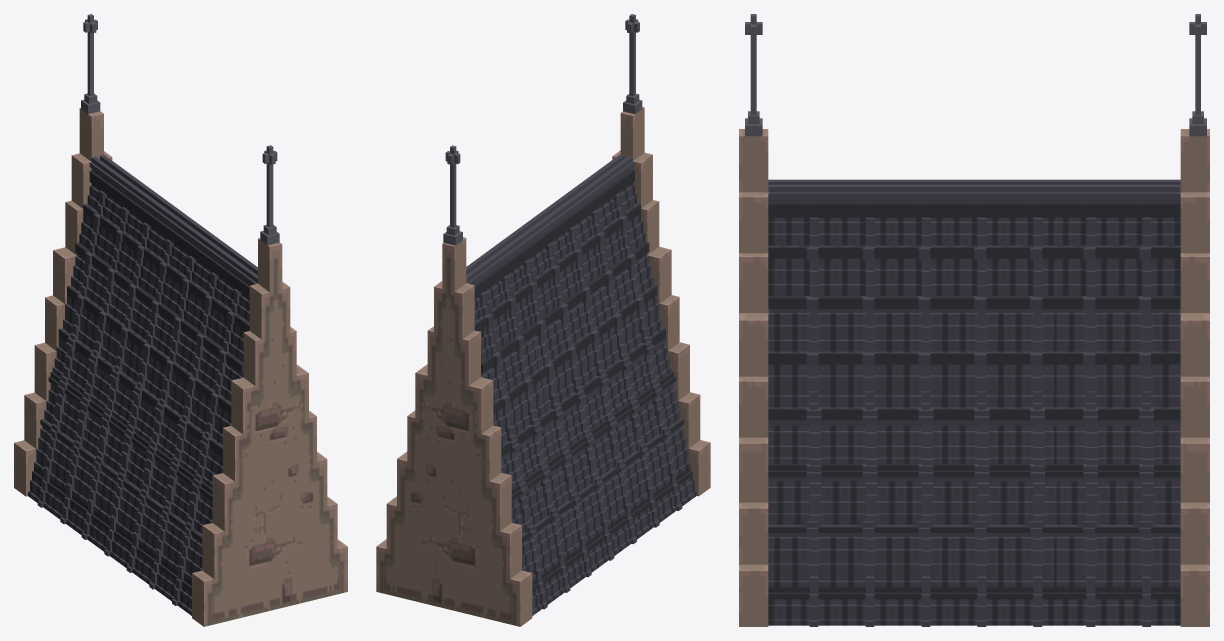
File: Rooftop-1.fbx
The picture shows the model from 3 angles, left to right: view 1: azimuth 30°, elevation 25°; view 2: azimuth 150°, elevation 25°; view 3: azimuth 270°, elevation 25°; orthographic projection. The views are drawn at different scales.
Visible parts, largest first — view 1: Rooftop-1; view 2: Rooftop-1; view 3: Rooftop-1.
Boxes of the visible parts, <box> form: Rooftop-1: <box>14,14,347,626</box>; Rooftop-1: <box>376,14,710,626</box>; Rooftop-1: <box>739,14,1209,626</box>.
Size of the model in its own units: 350 by 1065 by 800.
